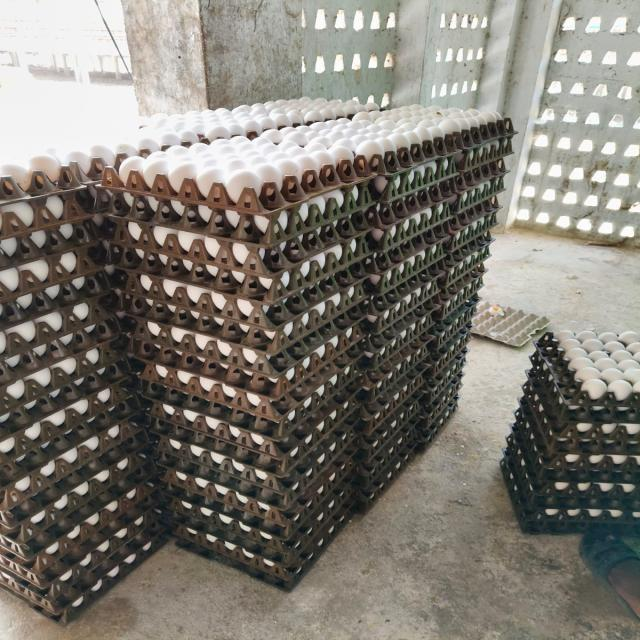egg_tray: (0, 108, 337, 194), (112, 199, 369, 309), (102, 127, 431, 210), (114, 204, 367, 311), (119, 225, 370, 330), (118, 101, 506, 168), (114, 225, 370, 324), (110, 222, 370, 315), (109, 186, 370, 278), (101, 130, 388, 213), (1, 361, 135, 529), (99, 150, 371, 232), (165, 458, 351, 577), (134, 285, 364, 380), (116, 220, 367, 305), (123, 265, 365, 353), (112, 226, 369, 308), (115, 126, 372, 208), (100, 137, 371, 214), (1, 366, 123, 535), (123, 279, 366, 363), (102, 128, 356, 208), (0, 437, 157, 566), (0, 448, 157, 576), (160, 410, 355, 512), (172, 326, 359, 432), (108, 184, 372, 259), (0, 452, 157, 574), (0, 509, 165, 625), (174, 486, 350, 588), (0, 249, 119, 399), (161, 416, 353, 508), (145, 358, 358, 440), (131, 321, 363, 396), (0, 477, 156, 588), (155, 422, 354, 509), (143, 361, 359, 437), (162, 454, 352, 540), (0, 485, 155, 589), (150, 399, 357, 476), (162, 456, 353, 539), (0, 530, 165, 625), (140, 352, 358, 423), (0, 319, 131, 436), (158, 418, 353, 494), (174, 506, 349, 590), (169, 485, 350, 564), (0, 419, 144, 518), (171, 487, 349, 567), (196, 133, 375, 212), (507, 406, 639, 512), (0, 358, 138, 459), (131, 96, 381, 150), (0, 367, 138, 463), (0, 457, 152, 540), (0, 272, 120, 375), (515, 380, 639, 479), (503, 435, 639, 525), (509, 411, 639, 502), (500, 448, 639, 533), (0, 294, 121, 383), (0, 221, 106, 322), (0, 330, 126, 414), (279, 121, 457, 178), (0, 212, 105, 308), (2, 389, 139, 462), (519, 370, 639, 453), (0, 323, 125, 400), (0, 220, 105, 309), (518, 380, 639, 455), (358, 331, 467, 413), (363, 242, 447, 348), (361, 348, 467, 428), (531, 331, 639, 408), (0, 271, 112, 342), (349, 404, 421, 511), (500, 456, 593, 534), (321, 128, 456, 181), (0, 219, 100, 290), (119, 113, 277, 157), (0, 145, 126, 200), (366, 209, 446, 294), (350, 401, 421, 495), (350, 418, 420, 512), (525, 370, 639, 425), (76, 184, 126, 309), (365, 239, 445, 315), (201, 96, 379, 130), (352, 397, 420, 486), (0, 246, 102, 303), (365, 236, 445, 308), (351, 409, 421, 490), (362, 283, 437, 358), (354, 394, 420, 478), (358, 318, 438, 386), (537, 331, 639, 384), (367, 204, 450, 269), (369, 149, 457, 208), (352, 437, 419, 513), (63, 163, 112, 264), (353, 390, 419, 464), (231, 96, 380, 128), (0, 187, 90, 239), (435, 214, 494, 293), (358, 316, 433, 378), (362, 279, 438, 340), (357, 365, 423, 435), (359, 344, 429, 410), (369, 154, 457, 206), (83, 188, 125, 296), (57, 145, 127, 208), (356, 374, 424, 437), (0, 154, 85, 204), (367, 203, 451, 253), (439, 118, 517, 170), (382, 118, 462, 165), (443, 196, 501, 260), (441, 206, 499, 270), (421, 349, 468, 426), (445, 199, 501, 261), (433, 273, 483, 342), (421, 348, 467, 422), (433, 277, 483, 344), (474, 301, 548, 346), (436, 236, 493, 292), (454, 132, 515, 184), (419, 352, 466, 419), (456, 118, 516, 170), (441, 112, 517, 150), (404, 172, 479, 210), (97, 218, 127, 313), (421, 342, 468, 402), (422, 323, 471, 378), (419, 373, 464, 432), (445, 196, 500, 244), (452, 169, 507, 217), (444, 117, 517, 152), (455, 139, 513, 183), (433, 271, 483, 322), (433, 273, 483, 323), (0, 163, 63, 202), (416, 395, 459, 452), (433, 274, 483, 323), (451, 177, 503, 224), (446, 190, 500, 234), (430, 298, 477, 348), (102, 269, 135, 339), (405, 174, 468, 210), (433, 276, 483, 320), (452, 159, 508, 195), (442, 120, 496, 157), (76, 182, 111, 238), (454, 141, 499, 184), (76, 182, 113, 228), (382, 132, 425, 169), (463, 159, 509, 192), (322, 99, 380, 124), (422, 398, 459, 436), (442, 174, 478, 209), (441, 172, 478, 204), (496, 118, 517, 155), (21, 260, 50, 284), (495, 117, 517, 144), (262, 305, 287, 319), (38, 510, 59, 526), (119, 314, 135, 334), (101, 286, 115, 308), (81, 404, 103, 418), (0, 439, 14, 456), (16, 449, 29, 467), (149, 384, 163, 399), (324, 122, 346, 131), (355, 241, 368, 256), (260, 318, 276, 330), (594, 411, 615, 420), (138, 517, 152, 530), (130, 226, 141, 240), (0, 416, 10, 430), (50, 164, 60, 178), (181, 232, 196, 241), (466, 208, 481, 217), (596, 514, 609, 524), (327, 200, 337, 213), (306, 356, 319, 366), (185, 232, 198, 242), (116, 232, 127, 243), (163, 391, 175, 401), (155, 367, 167, 377), (325, 122, 342, 129), (487, 122, 494, 138), (179, 498, 192, 506), (163, 284, 172, 295), (159, 161, 168, 172), (18, 202, 30, 210), (214, 192, 226, 200), (276, 113, 288, 121), (358, 167, 368, 176), (78, 486, 88, 495), (123, 348, 132, 358), (94, 159, 105, 167), (578, 372, 589, 380), (141, 346, 148, 358), (190, 289, 197, 301), (362, 361, 371, 370), (84, 525, 93, 534), (62, 260, 72, 268), (32, 517, 39, 528), (194, 267, 205, 274), (171, 232, 177, 244), (226, 372, 233, 382), (3, 466, 13, 473), (87, 462, 97, 469), (30, 512, 40, 519), (279, 319, 290, 325), (22, 531, 35, 536), (182, 188, 190, 196), (428, 149, 436, 157), (484, 171, 491, 180), (284, 119, 293, 126), (303, 362, 309, 372), (3, 186, 13, 192), (57, 502, 67, 508), (323, 123, 338, 127), (37, 509, 44, 517), (145, 256, 152, 264), (354, 255, 362, 262), (0, 269, 7, 277), (291, 210, 299, 217), (155, 227, 166, 232), (246, 142, 253, 149), (73, 205, 81, 211), (19, 323, 31, 327), (239, 256, 245, 264), (12, 301, 17, 310), (244, 302, 250, 309), (618, 434, 625, 440), (334, 135, 340, 142), (238, 160, 245, 166), (111, 469, 118, 475), (53, 523, 61, 528), (298, 298, 306, 303), (354, 123, 364, 127), (78, 490, 86, 495), (490, 125, 493, 138), (446, 160, 452, 166), (273, 107, 279, 113), (137, 244, 146, 248), (23, 514, 29, 520), (292, 211, 299, 216), (240, 527, 247, 532), (391, 201, 398, 206), (89, 356, 96, 361), (282, 212, 289, 217), (309, 144, 316, 149), (163, 229, 170, 234), (370, 266, 377, 271), (5, 344, 13, 348), (123, 460, 127, 468), (371, 133, 379, 137), (19, 376, 25, 381), (357, 123, 363, 128), (7, 358, 13, 363), (199, 338, 205, 343), (256, 381, 260, 388), (39, 296, 43, 303), (97, 168, 101, 175), (85, 361, 89, 368), (450, 145, 454, 152), (31, 434, 38, 438), (371, 132, 378, 136), (34, 376, 43, 379), (149, 374, 154, 379), (118, 399, 123, 404), (463, 319, 468, 324), (175, 517, 180, 522), (485, 205, 490, 210), (121, 144, 126, 149), (129, 149, 135, 153), (442, 188, 446, 194), (274, 262, 277, 270), (350, 124, 356, 128), (180, 120, 186, 124), (167, 473, 170, 481), (357, 123, 363, 127), (218, 301, 222, 307), (324, 101, 335, 103), (106, 292, 109, 299), (430, 113, 437, 116), (258, 427, 265, 430), (582, 416, 589, 419), (15, 530, 20, 534), (25, 294, 30, 298), (305, 126, 310, 130), (286, 138, 290, 143), (141, 345, 145, 350), (250, 562, 255, 566), (31, 521, 35, 526), (73, 504, 78, 508), (32, 514, 37, 518), (154, 228, 159, 232), (382, 141, 387, 145), (380, 260, 385, 264), (90, 440, 95, 444), (431, 152, 436, 156), (93, 480, 98, 484), (23, 299, 29, 302), (583, 416, 589, 419), (525, 389, 528, 395), (27, 383, 33, 386), (21, 323, 27, 326), (257, 318, 260, 324), (393, 473, 397, 477), (227, 306, 231, 310), (4, 460, 8, 464), (321, 146, 325, 150), (247, 222, 251, 226), (149, 362, 153, 366), (343, 336, 347, 340), (378, 190, 382, 194), (434, 176, 438, 180), (16, 364, 20, 368), (144, 232, 148, 236), (422, 324, 426, 328), (310, 156, 314, 160), (290, 245, 294, 249), (101, 233, 105, 237), (68, 200, 73, 203), (195, 296, 198, 301), (283, 213, 288, 216), (127, 326, 130, 331), (252, 398, 257, 401), (145, 372, 148, 377), (85, 451, 90, 454), (284, 320, 287, 325), (130, 535, 133, 540), (229, 159, 234, 162), (265, 141, 270, 144), (267, 215, 272, 218), (181, 115, 186, 118), (7, 532, 10, 536), (43, 207, 47, 210), (10, 205, 14, 208), (217, 110, 223, 112), (252, 198, 254, 204), (7, 403, 11, 406), (327, 350, 333, 352), (252, 108, 255, 112), (398, 423, 402, 426), (102, 250, 105, 254), (167, 290, 170, 294), (2, 560, 5, 564), (247, 419, 251, 422), (127, 426, 130, 430), (107, 176, 110, 180), (228, 546, 231, 550), (290, 362, 293, 366), (201, 345, 205, 348), (129, 149, 133, 152), (452, 168, 454, 174), (192, 548, 197, 550), (23, 526, 28, 528), (299, 312, 304, 314), (178, 147, 183, 149), (588, 371, 593, 373), (333, 123, 338, 125), (72, 540, 74, 545), (7, 373, 10, 376), (448, 170, 451, 173), (50, 371, 53, 374), (325, 141, 328, 144), (404, 361, 407, 364), (109, 270, 112, 273), (168, 291, 171, 294), (353, 124, 356, 127), (420, 129, 423, 132), (382, 120, 385, 123), (150, 513, 153, 516), (331, 148, 334, 151), (436, 214, 439, 217), (294, 151, 297, 154), (78, 534, 81, 537), (167, 150, 171, 152), (23, 514, 27, 516), (379, 182, 381, 186), (78, 309, 80, 313), (409, 158, 411, 162), (170, 116, 174, 118), (334, 149, 338, 151), (425, 142, 429, 144), (101, 472, 103, 476), (354, 125, 361, 126), (363, 474, 366, 476), (63, 364, 66, 366), (33, 514, 36, 516), (169, 357, 171, 360), (103, 293, 105, 296), (234, 199, 236, 202), (314, 134, 317, 136), (303, 424, 306, 426), (11, 283, 13, 286), (178, 170, 181, 172), (354, 110, 357, 112), (371, 320, 374, 322), (243, 418, 246, 420), (15, 508, 18, 510), (92, 463, 94, 466), (126, 374, 128, 377), (123, 363, 125, 366), (3, 323, 5, 326), (258, 312, 260, 315), (139, 249, 141, 252), (580, 484, 583, 486), (408, 162, 411, 164), (376, 146, 379, 148), (98, 328, 99, 334), (261, 158, 263, 161), (167, 148, 170, 150), (455, 113, 458, 115), (273, 107, 276, 109), (334, 344, 337, 346), (222, 493, 225, 495), (192, 438, 195, 440), (449, 114, 451, 117), (409, 288, 412, 290), (390, 173, 393, 175), (149, 518, 152, 520), (150, 513, 153, 515), (156, 171, 161, 172), (351, 154, 352, 159), (100, 317, 102, 319), (49, 198, 51, 200), (154, 260, 156, 262), (52, 279, 54, 281), (487, 175, 489, 177), (150, 180, 152, 182), (222, 110, 226, 111), (540, 368, 542, 370), (201, 549, 203, 551), (43, 564, 45, 566), (337, 228, 339, 230), (354, 328, 356, 330), (330, 132, 332, 134), (287, 526, 289, 528), (344, 124, 346, 126), (452, 288, 454, 290), (203, 249, 205, 251), (301, 312, 303, 314), (108, 172, 110, 174), (240, 469, 242, 471), (63, 349, 67, 350), (77, 185, 81, 186), (230, 132, 232, 134), (593, 376, 595, 378), (394, 164, 396, 166), (308, 247, 312, 248), (337, 140, 339, 142), (296, 122, 298, 124), (299, 122, 301, 124), (81, 560, 83, 562), (27, 340, 30, 341), (392, 203, 395, 204), (593, 518, 596, 519), (276, 443, 279, 444), (625, 416, 628, 417), (303, 108, 306, 109), (238, 107, 241, 108), (398, 425, 401, 426), (539, 369, 540, 372), (212, 245, 215, 246), (115, 354, 116, 357), (451, 139, 452, 142), (82, 390, 85, 391), (446, 164, 447, 167), (416, 127, 419, 128), (327, 292, 330, 293), (114, 251, 115, 254), (97, 325, 98, 328), (129, 152, 132, 153), (354, 123, 355, 126), (174, 114, 177, 115), (267, 384, 268, 386), (293, 300, 295, 301), (36, 376, 37, 378), (72, 367, 74, 368), (205, 431, 207, 432), (182, 158, 184, 159), (296, 144, 297, 146), (312, 103, 314, 104), (170, 174, 171, 176), (449, 110, 451, 111), (161, 365, 163, 366), (603, 431, 605, 432), (523, 386, 524, 388), (246, 313, 248, 314), (363, 131, 365, 132), (493, 123, 495, 124), (150, 296, 152, 297), (143, 253, 144, 255), (138, 228, 139, 230), (243, 204, 244, 206), (369, 142, 370, 144), (370, 349, 372, 350), (467, 278, 468, 280), (147, 161, 148, 163), (307, 242, 308, 244), (85, 487, 86, 488), (262, 385, 263, 386), (352, 265, 353, 266), (36, 456, 37, 457), (167, 154, 168, 155), (367, 312, 368, 313), (356, 441, 357, 442), (285, 401, 286, 402), (243, 218, 244, 219), (156, 358, 157, 359), (559, 427, 560, 428), (49, 491, 50, 492), (120, 421, 121, 422), (363, 127, 364, 128), (22, 367, 23, 368), (38, 349, 39, 350), (129, 238, 130, 239), (19, 371, 20, 372), (498, 207, 499, 208), (622, 426, 623, 427), (309, 149, 310, 150), (307, 247, 308, 248), (338, 134, 339, 135), (116, 156, 117, 157), (133, 518, 134, 519), (136, 516, 137, 517), (281, 501, 281, 502), (287, 498, 287, 499), (398, 441, 399, 441), (47, 330, 48, 330), (4, 518, 6, 518), (178, 534, 178, 534), (16, 205, 16, 206), (250, 224, 250, 226), (354, 218, 354, 220), (511, 152, 512, 152), (138, 350, 139, 350), (249, 294, 251, 294), (141, 263, 141, 264), (303, 165, 303, 166), (354, 132, 354, 132), (370, 120, 370, 122), (262, 108, 264, 108), (243, 106, 247, 106), (174, 170, 174, 170), (440, 110, 441, 110), (429, 108, 432, 108), (412, 414, 412, 414), (413, 412, 414, 412), (161, 366, 161, 366), (23, 505, 23, 506), (107, 443, 108, 443), (336, 131, 336, 133), (70, 225, 70, 226), (52, 507, 52, 508), (521, 461, 521, 462), (298, 134, 299, 134), (98, 288, 99, 288), (263, 252, 263, 252), (165, 238, 165, 240), (178, 323, 178, 323), (22, 316, 23, 316), (32, 361, 33, 361), (54, 161, 54, 163), (192, 112, 192, 112), (303, 152, 303, 152), (185, 150, 186, 150), (431, 376, 432, 376), (273, 112, 274, 112), (303, 252, 303, 252), (348, 336, 348, 337), (394, 172, 396, 172), (336, 132, 336, 132), (308, 128, 310, 128), (70, 498, 70, 499), (270, 123, 274, 123), (421, 172, 421, 172)
